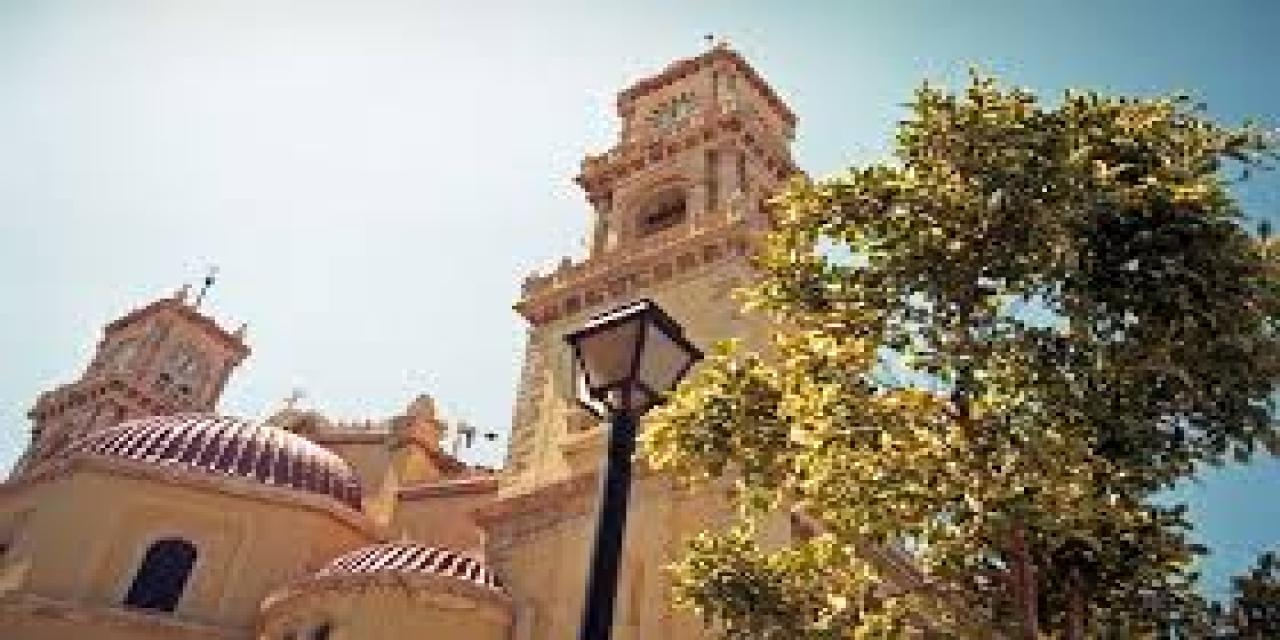Agios Minas: (3, 26, 930, 640)
